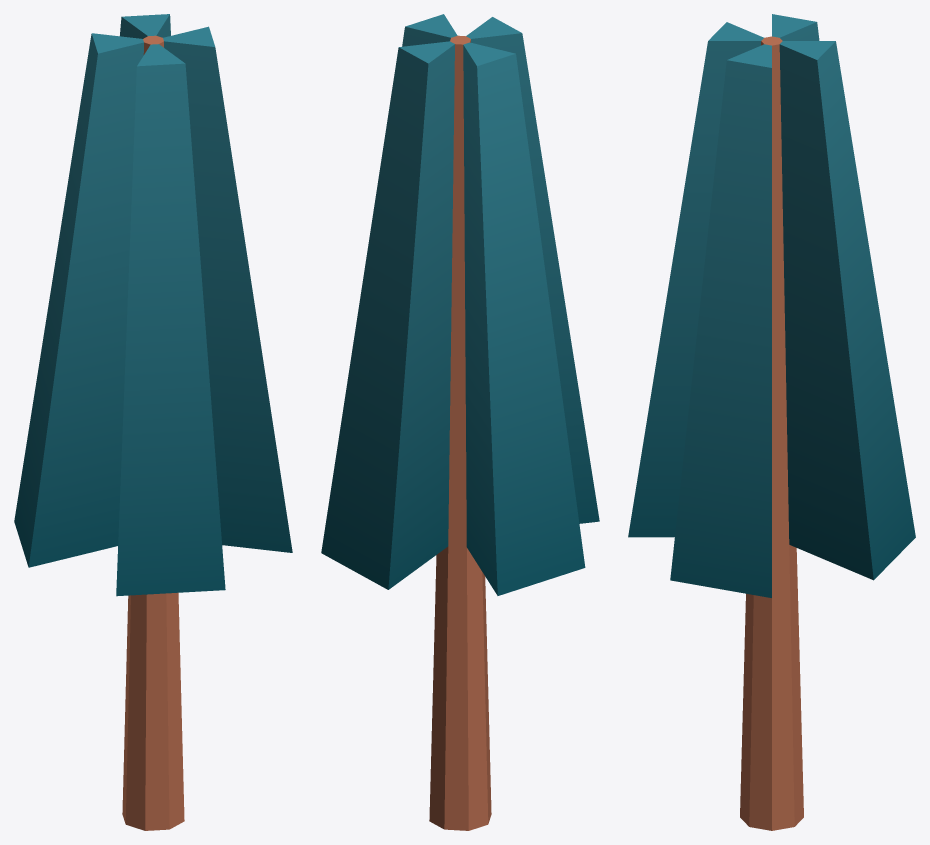
The model's file is Tree_28_gradient_blue_vc.fbx.
3 renders of one model, left to right at view 1: azimuth 30°, elevation 25°; view 2: azimuth 150°, elevation 25°; view 3: azimuth 270°, elevation 25°, orthographic.
Parts seen in each view (by area): view 1: Tree_28_gradient_blue_vc; view 2: Tree_28_gradient_blue_vc; view 3: Tree_28_gradient_blue_vc.
Boxes of the visible parts, left/top/right/bottom form: Tree_28_gradient_blue_vc: left=14, top=14, right=292, bottom=830; Tree_28_gradient_blue_vc: left=321, top=14, right=599, bottom=830; Tree_28_gradient_blue_vc: left=628, top=14, right=915, bottom=830.
Bounding box in the file's own units: 98.97 × 294 × 98.97.
